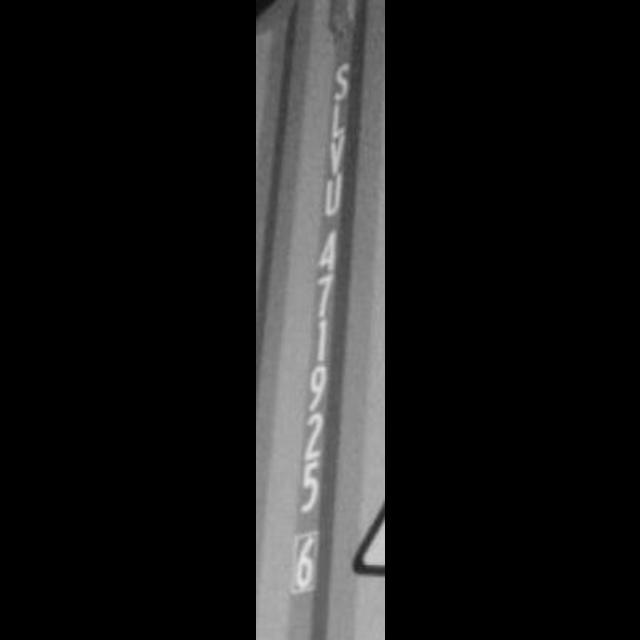1: (310, 318, 334, 366)
2: (302, 414, 328, 464)
4: (314, 227, 344, 275)
5: (300, 462, 324, 514)
6: (290, 532, 320, 594)
7: (312, 272, 338, 318)
9: (306, 362, 330, 413)
l: (326, 103, 350, 139)
s: (332, 56, 356, 108)
u: (319, 174, 349, 224)
v: (324, 136, 346, 174)
